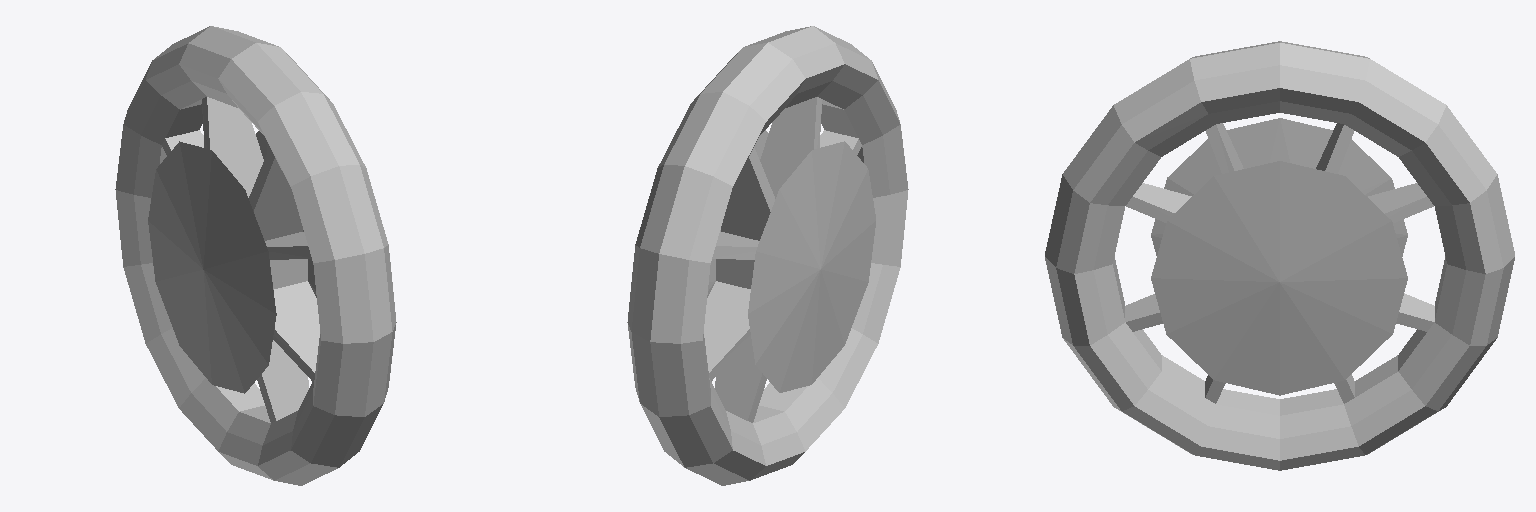
Rendered from Bike1_W2.obj.
3 views of the same model, side by side, from view 1: azimuth 30°, elevation 25°; view 2: azimuth 150°, elevation 25°; view 3: azimuth 270°, elevation 25° (orthographic).
Size of the model in its own units: 2.39 by 9.26 by 9.26.